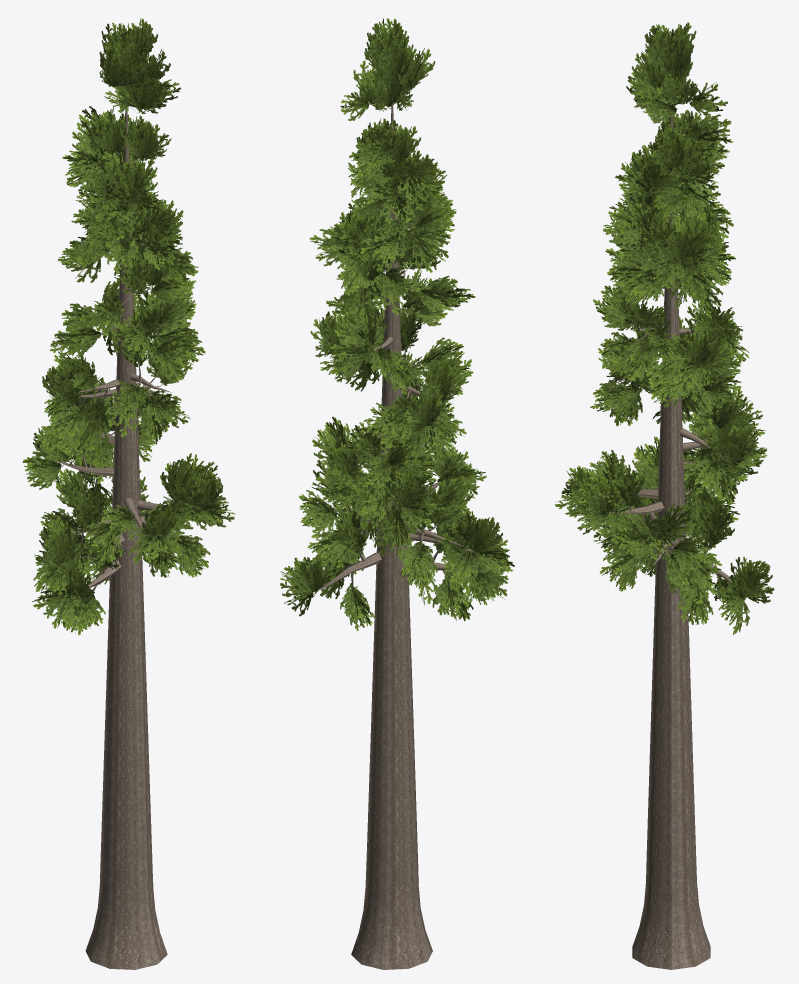
The model's file is Redwood_3.obj.
3 renders of one model, left to right at view 1: azimuth 30°, elevation 25°; view 2: azimuth 150°, elevation 25°; view 3: azimuth 270°, elevation 25°, orthographic.
Visible parts, largest first — view 1: Redwood_3; view 2: Redwood_3; view 3: Redwood_3.
Part boxes in pixels (x1,y1,x2,y2): Redwood_3: (22,18,235,969); Redwood_3: (280,18,514,969); Redwood_3: (555,22,774,969).
Size of the model in its own units: 24.33 by 106 by 24.23.
Materials: 2 (2 with a texture image).
